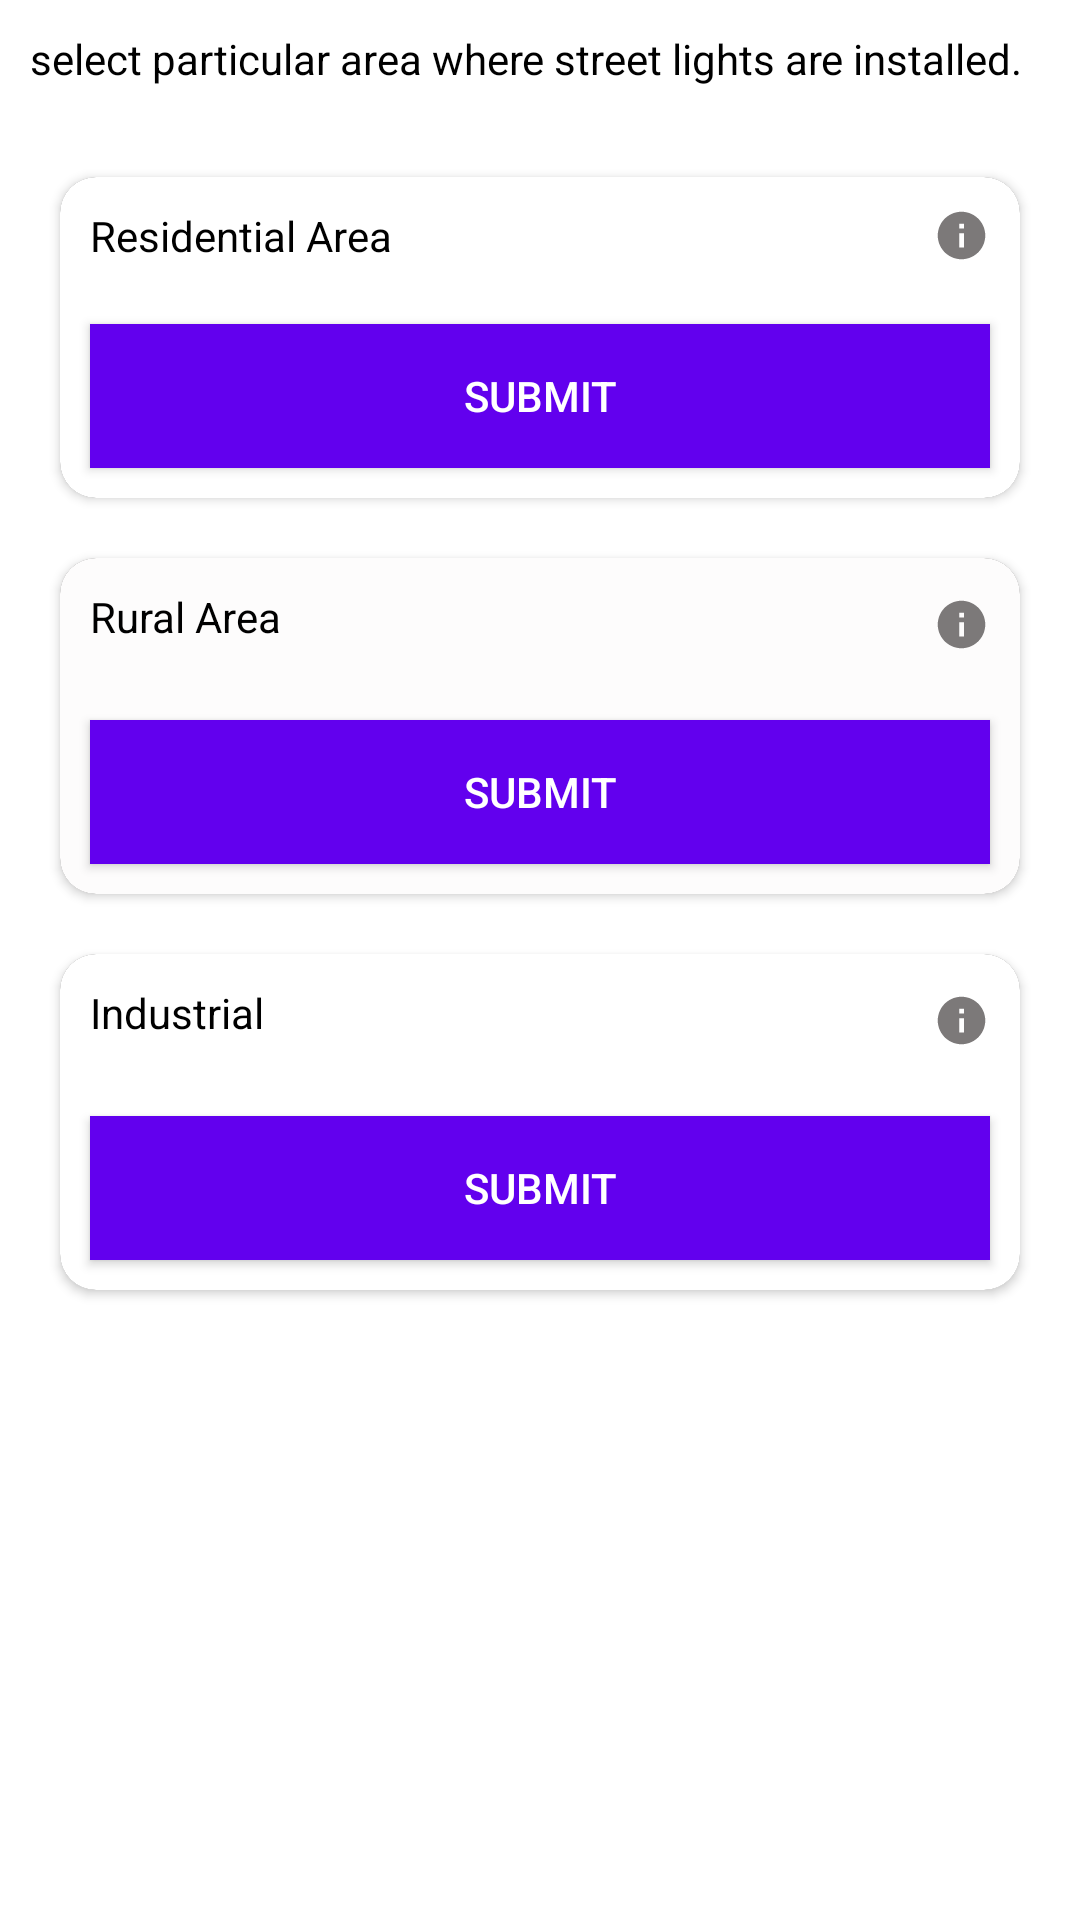

Icons on this 1080w x 1920h Android screen, each with the point to tap as point (x, y):
info: point (961, 235), point (961, 624), point (961, 1020)
